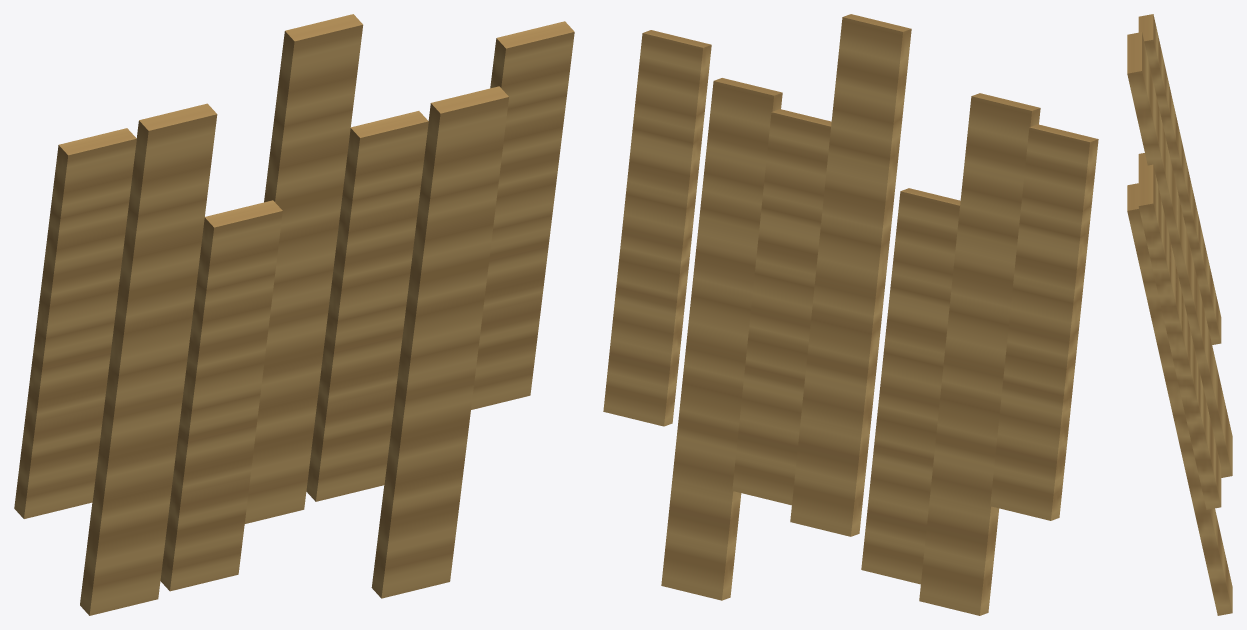
Rendered from rival_sand_mantle.obj.
3 renders of one model, left to right at view 1: azimuth 30°, elevation 25°; view 2: azimuth 150°, elevation 25°; view 3: azimuth 270°, elevation 25°, orthographic. The views are drawn at different scales.
Visible parts, largest first — view 1: rival_sand_mantle; view 2: rival_sand_mantle; view 3: rival_sand_mantle.
Boxes of the visible parts, x1,y1,x2,y2 form: rival_sand_mantle: [14, 14, 574, 615]; rival_sand_mantle: [603, 14, 1098, 615]; rival_sand_mantle: [1127, 14, 1232, 615].
Size of the model in its own units: 0.7375 by 0.89 by 0.1736.
